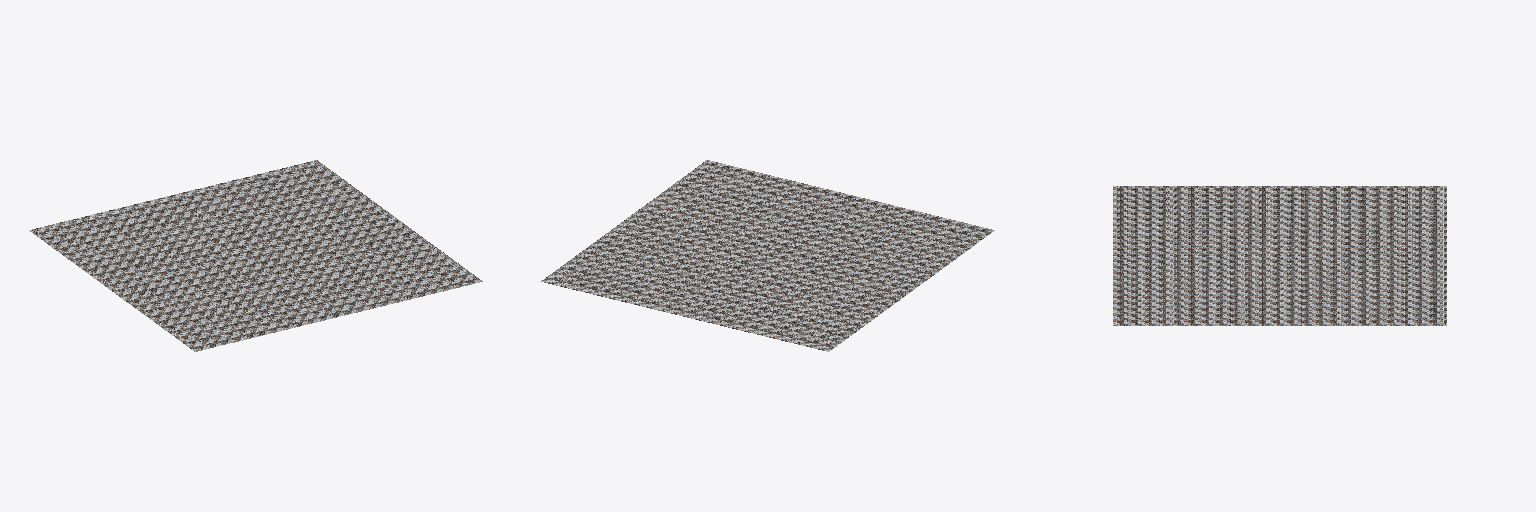
3 views of the same model, side by side, from view 1: azimuth 30°, elevation 25°; view 2: azimuth 150°, elevation 25°; view 3: azimuth 270°, elevation 25° (orthographic).
Visible parts, largest first — view 1: Plane_Plane.001; view 2: Plane_Plane.001; view 3: Plane_Plane.001.
Part boxes in pixels (x1,y1,x2,y2): Plane_Plane.001: (29, 160, 482, 351); Plane_Plane.001: (541, 160, 994, 351); Plane_Plane.001: (1113, 186, 1446, 325).
Size of the model in its own units: 26.76 by 0 by 26.76.
Materials: 1 (1 with a texture image).